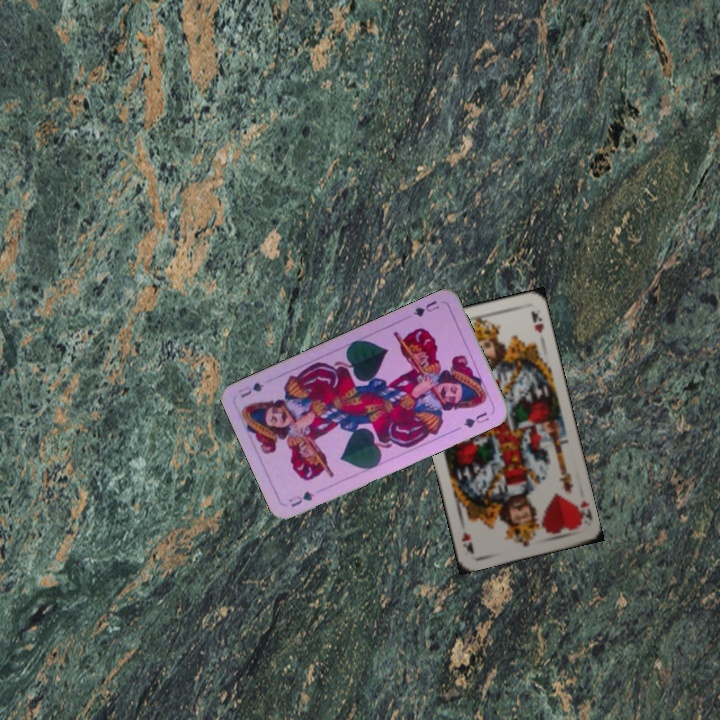GU: (409, 296, 442, 320), (285, 487, 317, 510)
HK: (570, 496, 595, 528)
